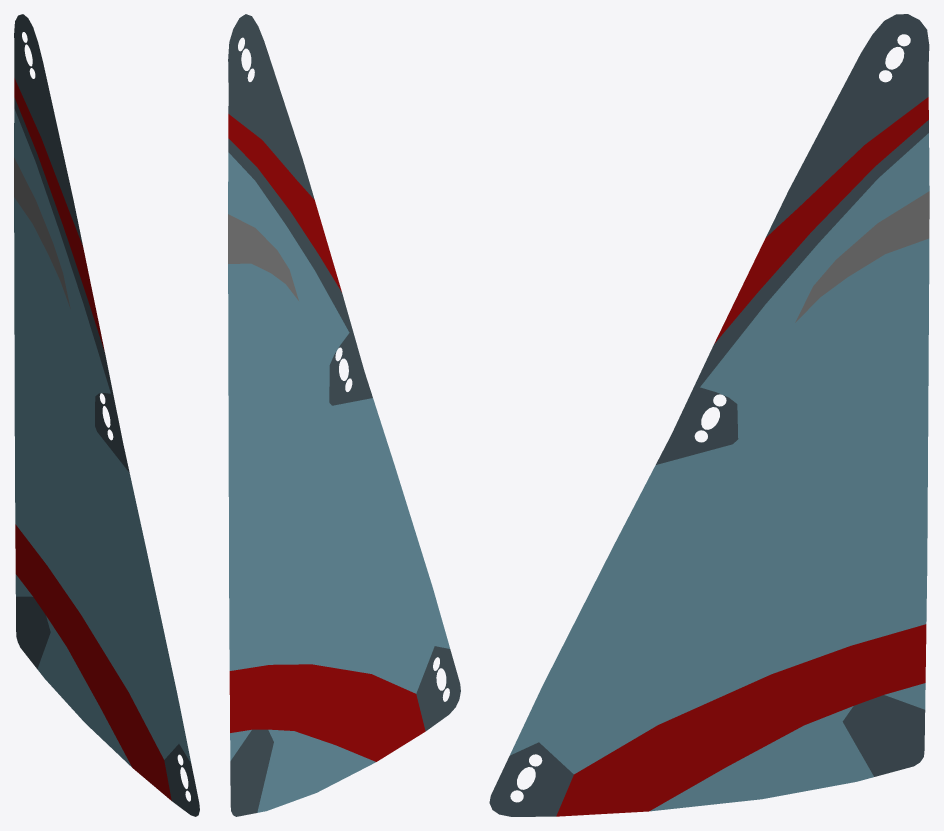
The picture shows the model from 3 angles, left to right: view 1: azimuth 30°, elevation 25°; view 2: azimuth 150°, elevation 25°; view 3: azimuth 270°, elevation 25°; orthographic projection. The views are drawn at different scales.
Visible parts, largest first — view 1: world; view 2: world; view 3: world.
Part boxes in pixels (bbox=[...]): world: bbox=[14, 14, 199, 816]; world: bbox=[228, 14, 460, 816]; world: bbox=[489, 14, 929, 816].
Size of the model in its own units: 0 by 0.2104 by 0.1045.
